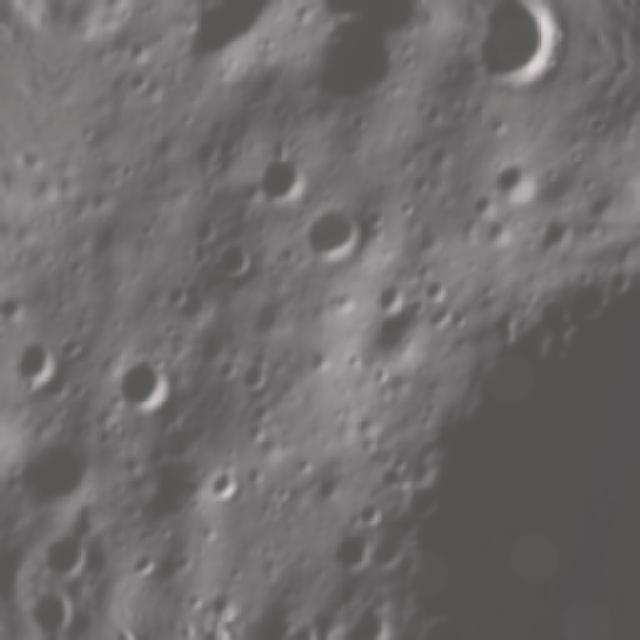crater: (284, 0, 424, 140), (1, 414, 116, 524), (175, 0, 308, 91), (348, 286, 440, 382), (457, 28, 566, 108), (289, 188, 377, 275), (103, 340, 188, 428), (249, 145, 316, 220), (34, 522, 106, 589), (314, 516, 384, 581), (0, 335, 65, 403), (158, 273, 228, 336), (487, 148, 556, 209), (248, 283, 306, 346), (332, 592, 405, 640), (529, 205, 586, 266), (398, 473, 452, 535), (198, 458, 251, 513), (214, 230, 268, 282), (225, 352, 278, 402), (296, 336, 346, 387), (190, 319, 238, 372), (487, 296, 531, 350), (367, 275, 415, 322), (55, 323, 100, 368), (238, 392, 282, 436), (123, 544, 165, 588), (206, 583, 248, 626), (185, 135, 227, 176), (601, 259, 640, 303), (476, 213, 516, 255), (118, 61, 158, 101), (188, 211, 226, 251), (123, 33, 159, 73), (354, 491, 391, 529), (421, 269, 456, 308), (445, 303, 478, 339), (607, 233, 640, 268), (237, 418, 272, 451), (465, 189, 498, 223), (265, 477, 298, 508), (624, 163, 640, 226), (576, 171, 602, 203), (217, 132, 246, 160)
